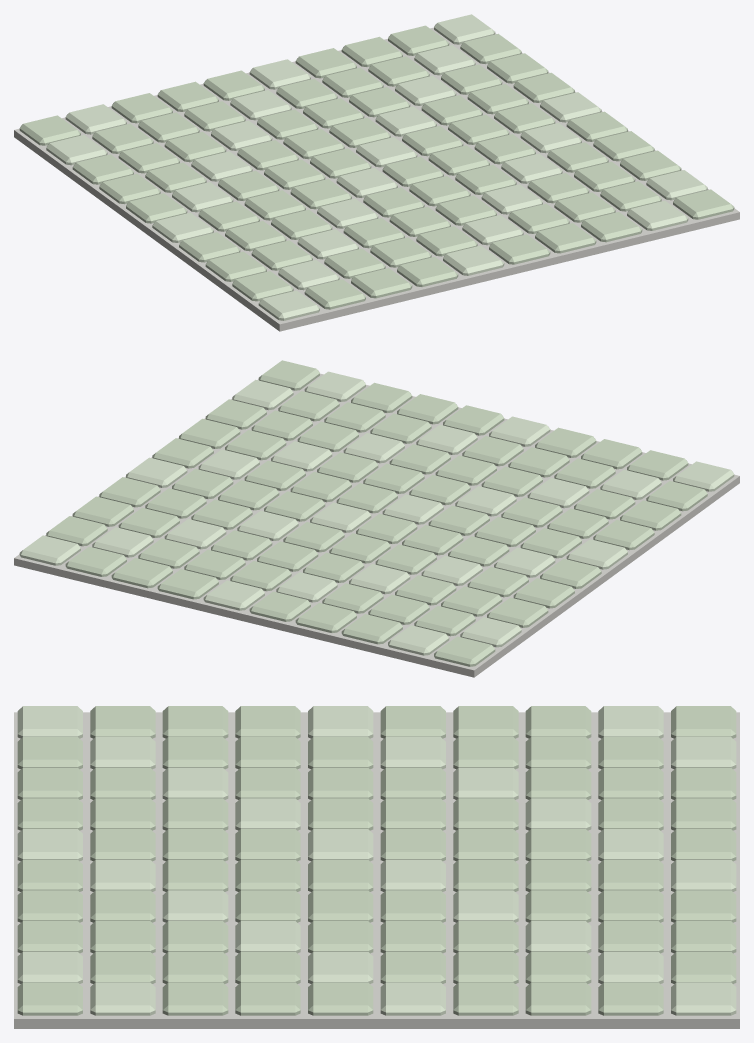
File: floor_sage.fbx
3 views of the same model, one above another, from view 1: azimuth 30°, elevation 25°; view 2: azimuth 150°, elevation 25°; view 3: azimuth 270°, elevation 25° (orthographic). The views are drawn at different scales.
Visible parts, largest first — view 1: Floor; view 2: Floor; view 3: Floor.
Boxes of the visible parts, bbox=[...] form: Floor: bbox=[14, 14, 739, 331]; Floor: bbox=[14, 360, 739, 677]; Floor: bbox=[14, 706, 739, 1028].
Size of the model in its own units: 4 by 0.12 by 4.
